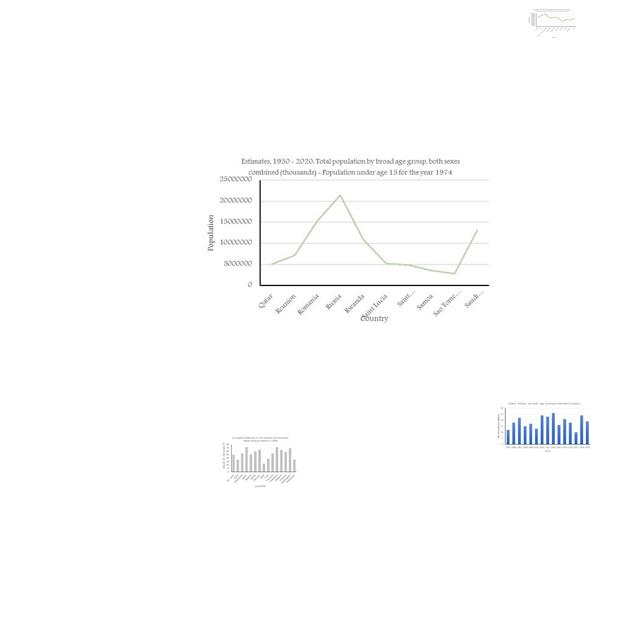Graph: (204, 155, 494, 324), (495, 401, 592, 453), (221, 435, 298, 489), (527, 8, 577, 38)
